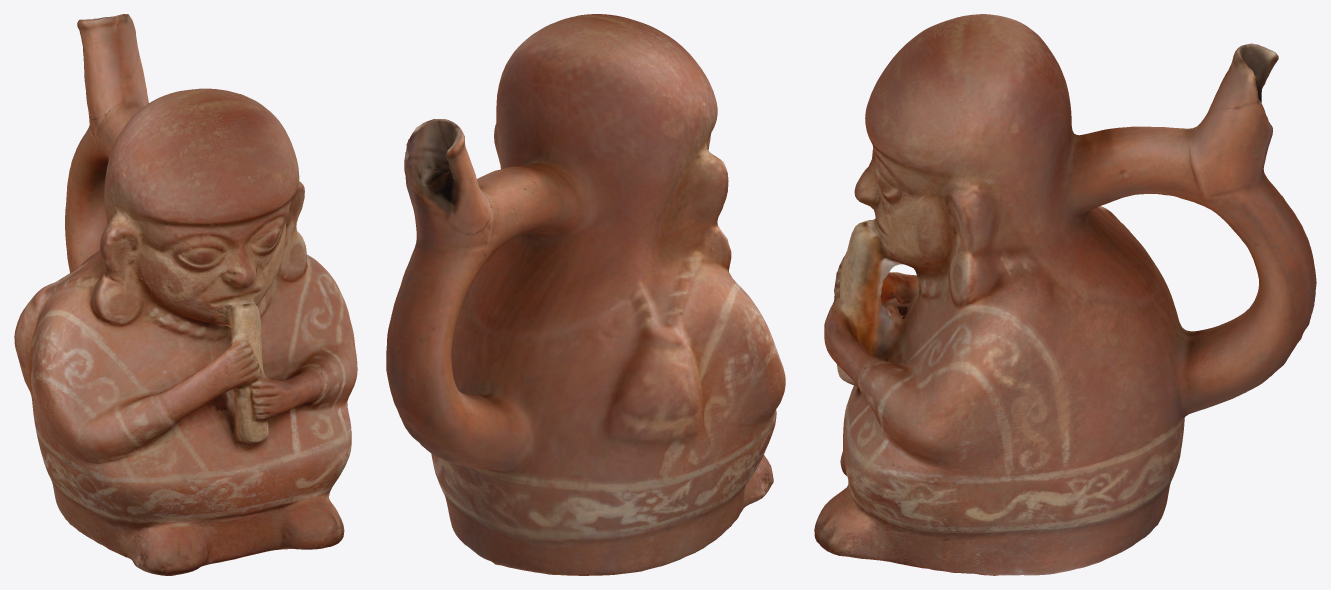
The model's file is musico_moche.glb.
The picture shows the model from 3 angles, left to right: view 1: azimuth 30°, elevation 25°; view 2: azimuth 150°, elevation 25°; view 3: azimuth 270°, elevation 25°; orthographic projection. The views are drawn at different scales.
Parts seen in each view (by area): view 1: Object_2; view 2: Object_2; view 3: Object_2.
Part boxes in pixels (<box>): Object_2: <box>14,14,357,575</box>; Object_2: <box>386,14,785,575</box>; Object_2: <box>814,14,1316,575</box>.
Size of the model in its own units: 2.1 by 2.93 by 2.65.
Materials: 1 (1 with a texture image).
